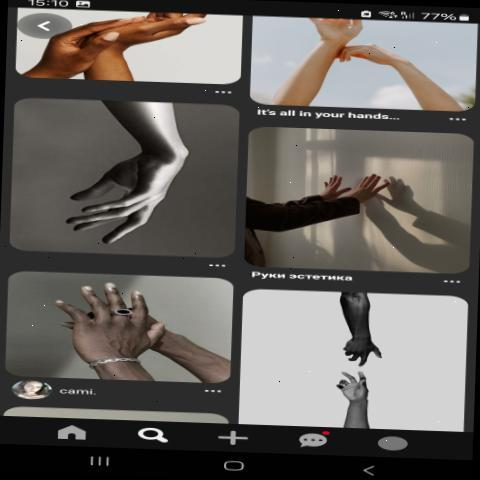Hands: (55, 118, 206, 248), (41, 270, 178, 377), (317, 300, 401, 371), (313, 360, 387, 406), (301, 161, 352, 204), (353, 168, 402, 209)
